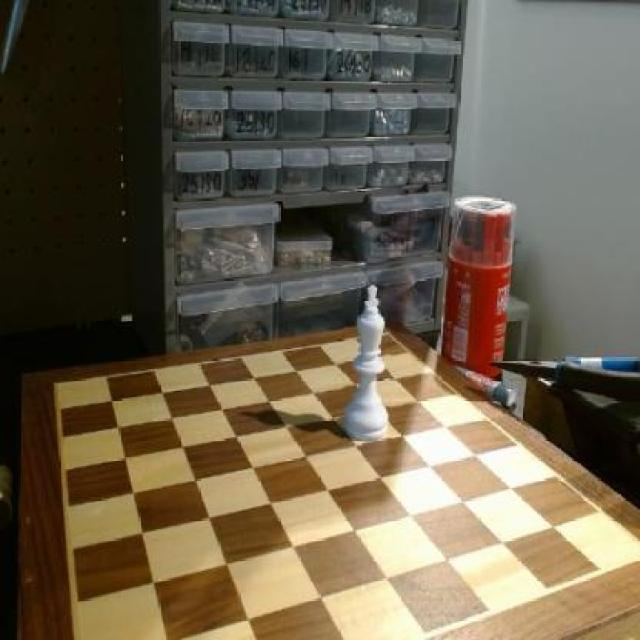white-bishop: (344, 286, 390, 446)
